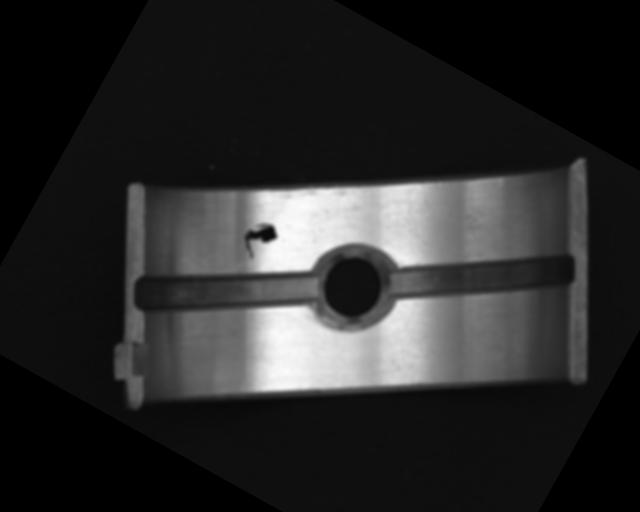blot: (234, 215, 282, 267)
gap: (382, 185, 581, 367), (127, 203, 322, 381)
hole: (301, 238, 398, 337)
